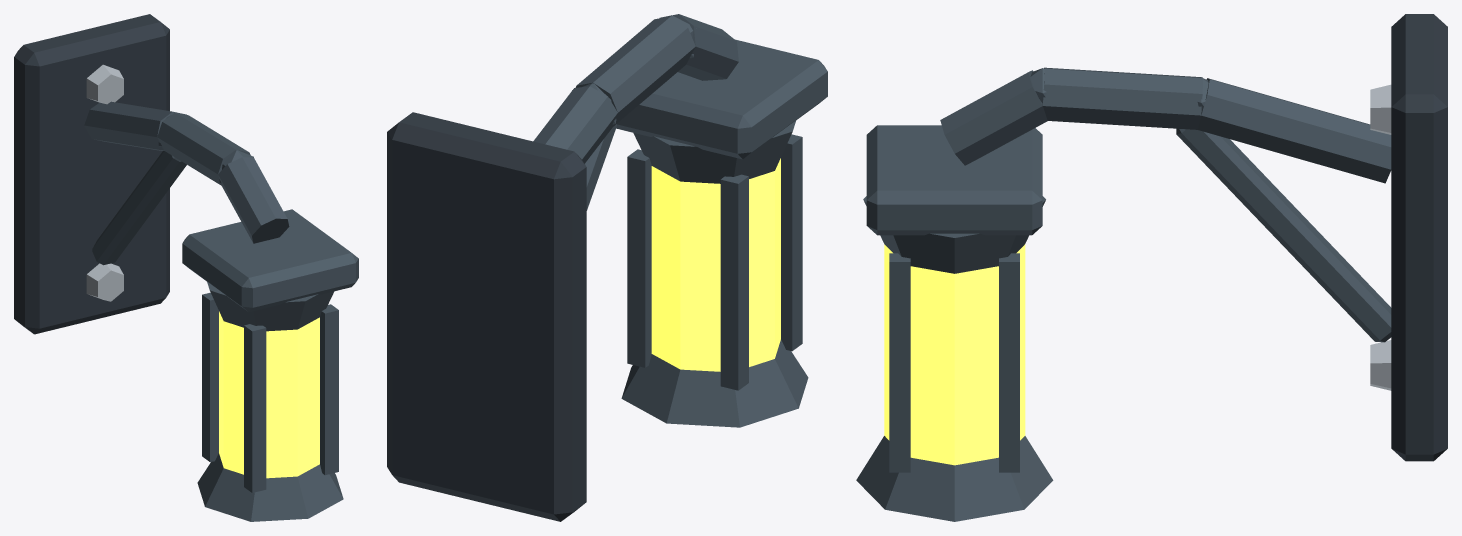
The model's file is Wall_Lamp.fbx.
The picture shows the model from 3 angles, left to right: view 1: azimuth 30°, elevation 25°; view 2: azimuth 150°, elevation 25°; view 3: azimuth 270°, elevation 25°; orthographic projection. The views are drawn at different scales.
Visible parts, largest first — view 1: Frame, FrameDark, Lamp, SteelLight; view 2: FrameDark, Frame, Lamp; view 3: Frame, FrameDark, Lamp, SteelLight.
Part boxes in pixels (box(x1,y1,x2,y2)): Frame: box(84, 101, 358, 521); FrameDark: box(14, 14, 169, 334); Lamp: box(219, 311, 319, 478); SteelLight: box(86, 64, 123, 301); FrameDark: box(387, 112, 586, 521); Frame: box(533, 14, 827, 427); Lamp: box(651, 158, 780, 371); Frame: box(856, 67, 1391, 521); FrameDark: box(1391, 14, 1447, 461); Lamp: box(884, 244, 1025, 465); SteelLight: box(1370, 84, 1391, 390).
Bounding box in the file's own units: 0.62 × 1.34 × 1.68.
